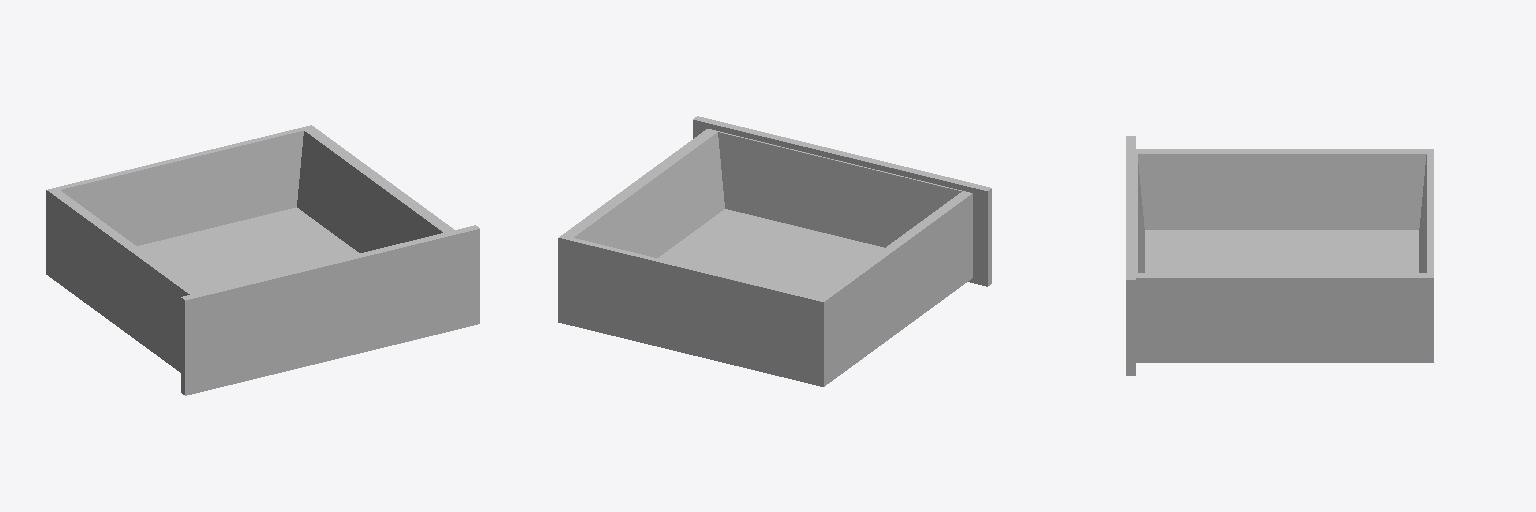
The model's file is Buro_cajon.obj.
3 renders of one model, left to right at view 1: azimuth 30°, elevation 25°; view 2: azimuth 150°, elevation 25°; view 3: azimuth 270°, elevation 25°, orthographic.
Parts seen in each view (by area): view 1: Buro_cajon; view 2: Buro_cajon; view 3: Buro_cajon.
Part boxes in pixels (left/top/right/bottom): Buro_cajon: left=46, top=125, right=479, bottom=395; Buro_cajon: left=558, top=116, right=991, bottom=386; Buro_cajon: left=1126, top=136, right=1433, bottom=375.
Bounding box in the file's own units: 1 × 0.3089 × 0.9032.